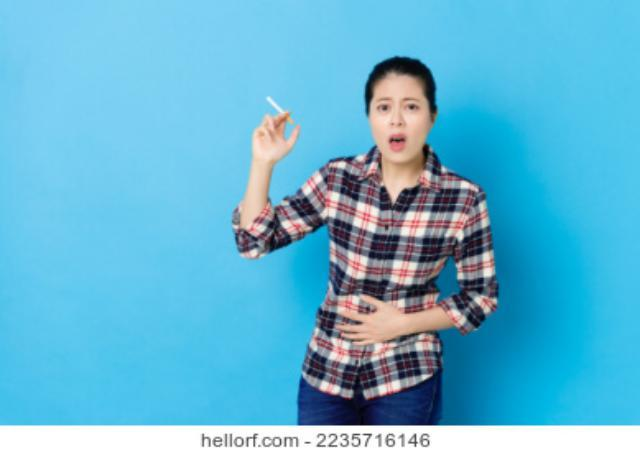SafeDriving: (369, 95, 396, 119), (400, 95, 424, 117)
Smoking: (250, 86, 312, 130)
